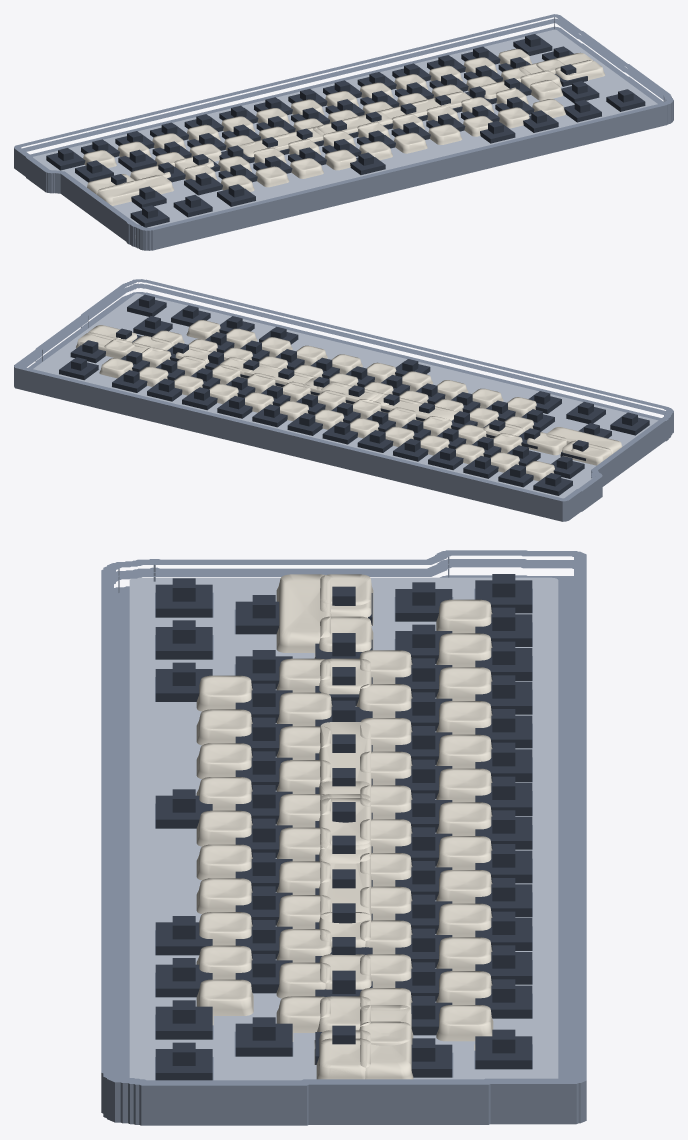
Rendered from wooting-60he.glb.
3 views of the same model, one above another, from view 1: azimuth 30°, elevation 25°; view 2: azimuth 150°, elevation 25°; view 3: azimuth 270°, elevation 25° (orthographic). The views are drawn at different scales.
Parts seen in each view (by area): view 1: switches/switches, bottomCase/case-bottom, keycaps/keycaps-0, plate/plate-placeholder, topCase/case-top, keycaps/keycaps-6, keycaps/keycaps-4, keycaps/keycaps-7, keycaps/keycaps-2; view 2: switches/switches, bottomCase/case-bottom, keycaps/keycaps-0, plate/plate-placeholder, topCase/case-top, keycaps/keycaps-6, keycaps/keycaps-7, keycaps/keycaps-4, keycaps/keycaps-2; view 3: switches/switches, keycaps/keycaps-0, bottomCase/case-bottom, plate/plate-placeholder, topCase/case-top, keycaps/keycaps-6, keycaps/keycaps-4, keycaps/keycaps-7, keycaps/keycaps-2, keycaps/keycaps-5, keycaps/keycaps-3.
Boxes of the visible parts, x1,y1,x2,y2 form: switches/switches: [46, 34, 645, 227]; bottomCase/case-bottom: [14, 14, 673, 250]; keycaps/keycaps-0: [83, 48, 565, 191]; plate/plate-placeholder: [33, 29, 657, 238]; topCase/case-top: [15, 18, 673, 246]; keycaps/keycaps-6: [88, 60, 605, 194]; keycaps/keycaps-4: [97, 52, 592, 205]; keycaps/keycaps-7: [239, 97, 451, 157]; keycaps/keycaps-2: [87, 60, 602, 193]; switches/switches: [59, 294, 649, 495]; bottomCase/case-bottom: [14, 279, 673, 521]; keycaps/keycaps-0: [99, 320, 554, 481]; plate/plate-placeholder: [33, 293, 658, 498]; topCase/case-top: [14, 283, 673, 517]; keycaps/keycaps-6: [91, 332, 611, 460]; keycaps/keycaps-7: [242, 363, 457, 421]; keycaps/keycaps-4: [76, 332, 622, 454]; keycaps/keycaps-2: [88, 325, 611, 465]; switches/switches: [155, 574, 532, 1080]; keycaps/keycaps-0: [196, 599, 493, 1050]; bottomCase/case-bottom: [101, 550, 586, 1125]; plate/plate-placeholder: [129, 577, 558, 1080]; topCase/case-top: [101, 559, 586, 1117]; keycaps/keycaps-6: [314, 579, 373, 1079]; keycaps/keycaps-4: [276, 574, 413, 1079]; keycaps/keycaps-7: [319, 722, 371, 922]; keycaps/keycaps-2: [314, 574, 373, 1079]; keycaps/keycaps-5: [320, 781, 370, 863]; keycaps/keycaps-3: [321, 798, 370, 844].
Size of the model in its own units: 9895634 by 428835 by 3791006.
